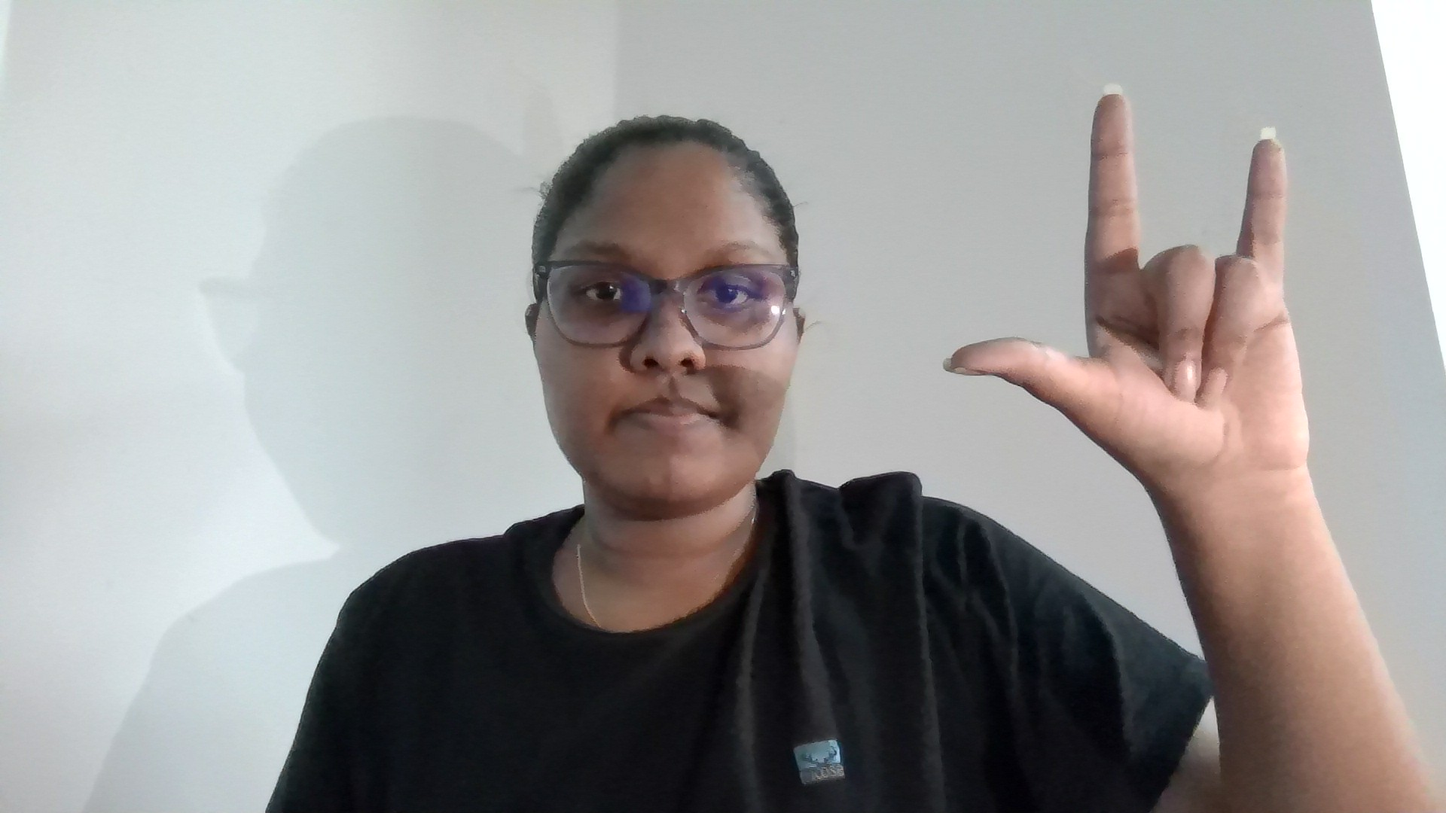I Love You: (958, 66, 1373, 567)
